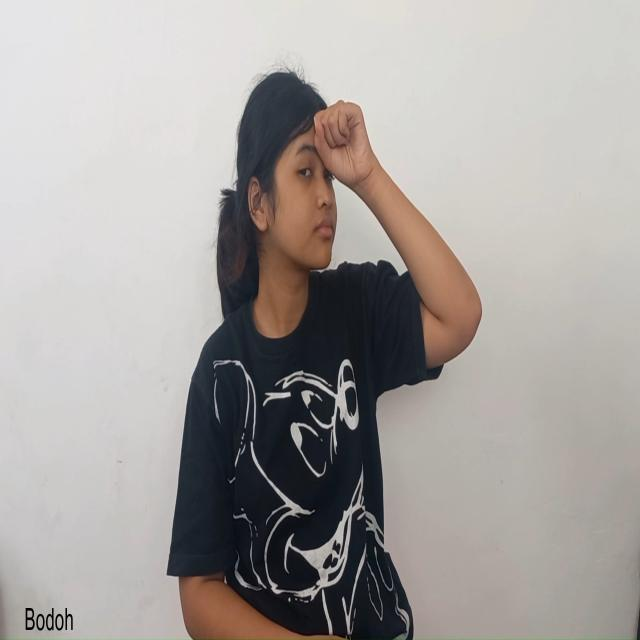Bodoh -BISINDO-: (207, 42, 409, 362)
